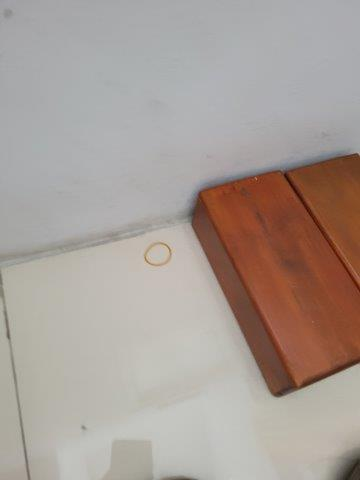karet: (143, 241, 172, 268)
